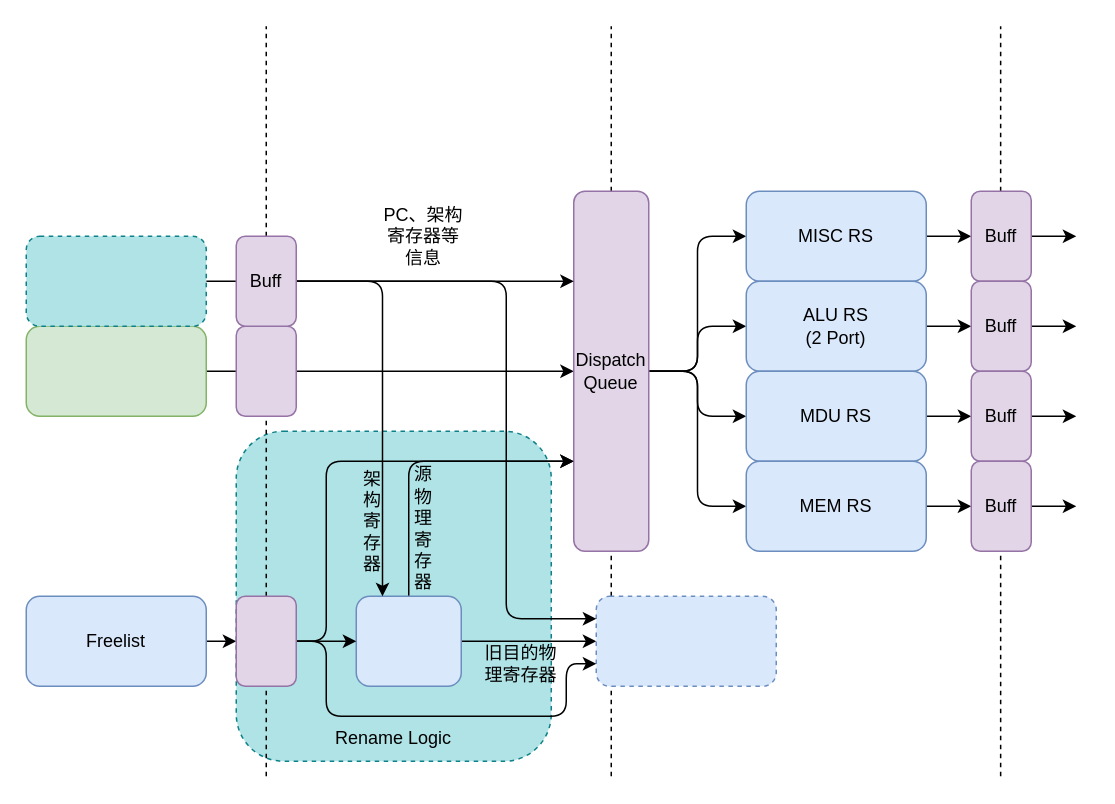
Some shapes in this 1115 by 804 pixel diagram are drawn without their labels. Here are the shapes that lost their labels. From the top down, the box of each, then its label:
(25, 235, 206, 326): Other Instr Info
(25, 325, 206, 416): Decoder
(235, 325, 296, 416): 解码信息 Buff
(235, 595, 296, 686): 目标物理寄存器 Buff
(355, 595, 461, 686): RAT
(595, 595, 776, 686): ROB
